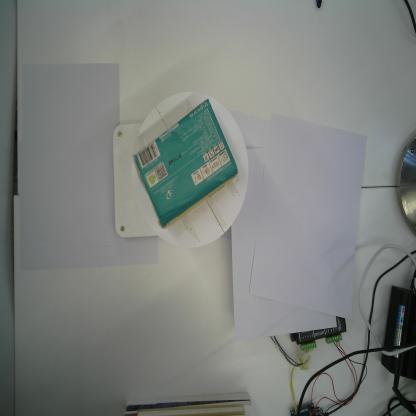Tissue: (132, 96, 240, 231)
